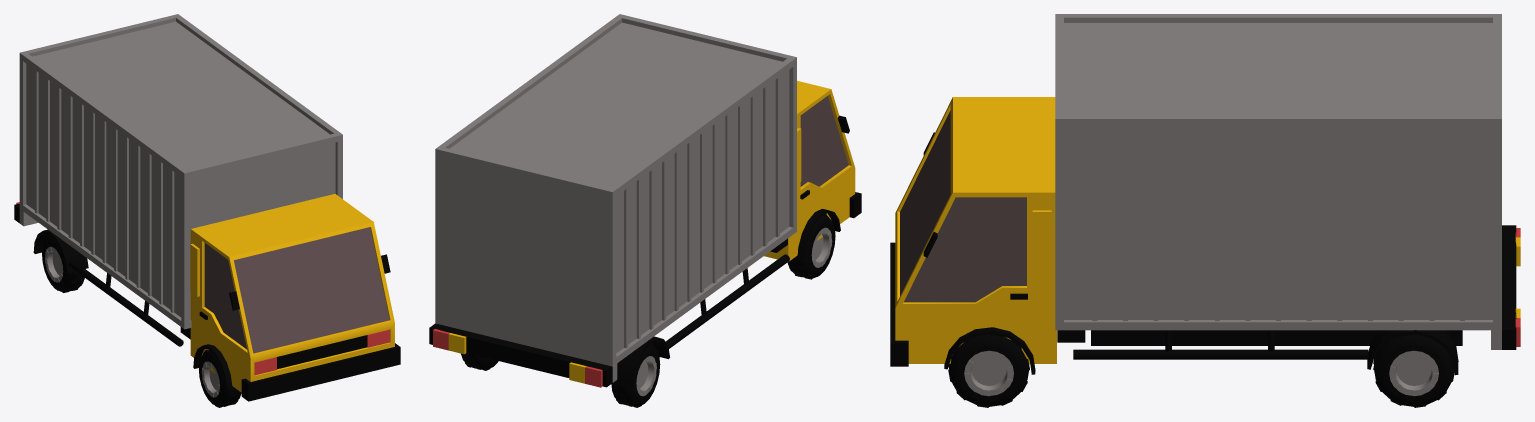
File: Truck 2 .fbx
3 views of the same model, side by side, from view 1: azimuth 30°, elevation 25°; view 2: azimuth 150°, elevation 25°; view 3: azimuth 270°, elevation 25° (orthographic). The views are drawn at different scales.
Visible parts, largest first — view 1: body.006, tyre.022, tyre.024; view 2: body.006, tyre.022, tyre.024, tyre.025; view 3: body.006, tyre.023, tyre.025.
Boxes of the visible parts, left/top/right/bottom form: body.006: left=14, top=14, right=400, bottom=401; tyre.022: left=199, top=350, right=241, bottom=407; tyre.024: left=42, top=235, right=84, bottom=292; body.006: left=429, top=14, right=861, bottom=389; tyre.022: left=787, top=214, right=835, bottom=279; tyre.024: left=611, top=343, right=660, bottom=407; tyre.025: left=461, top=353, right=498, bottom=370; body.006: left=890, top=14, right=1520, bottom=375; tyre.023: left=948, top=334, right=1029, bottom=407; tyre.025: left=1373, top=334, right=1454, bottom=407.
Bounding box in the file's own units: 2.53 × 3.21 × 6.26.
